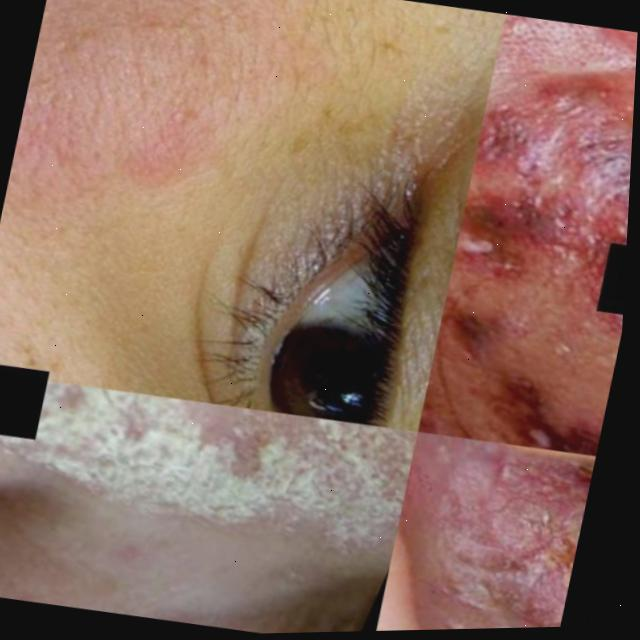lupus-detected: (0, 359, 421, 640), (0, 0, 316, 337), (425, 24, 638, 420), (373, 427, 597, 631), (416, 323, 619, 460), (479, 12, 639, 179)
